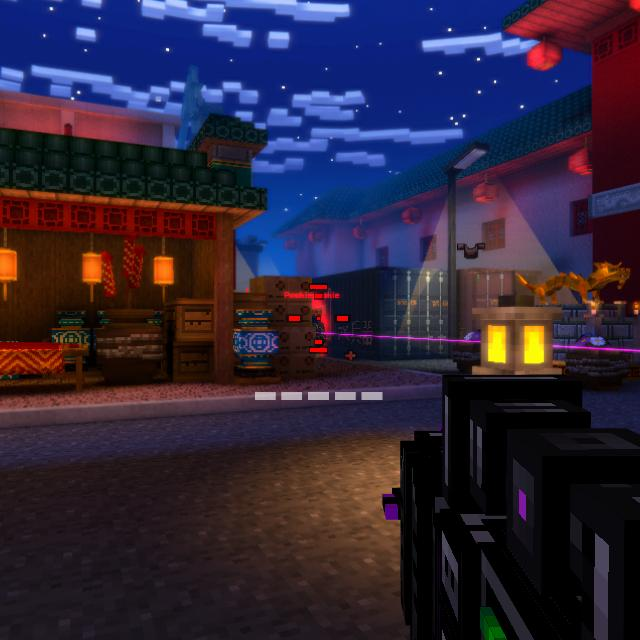Enemy: (313, 306, 326, 348)
